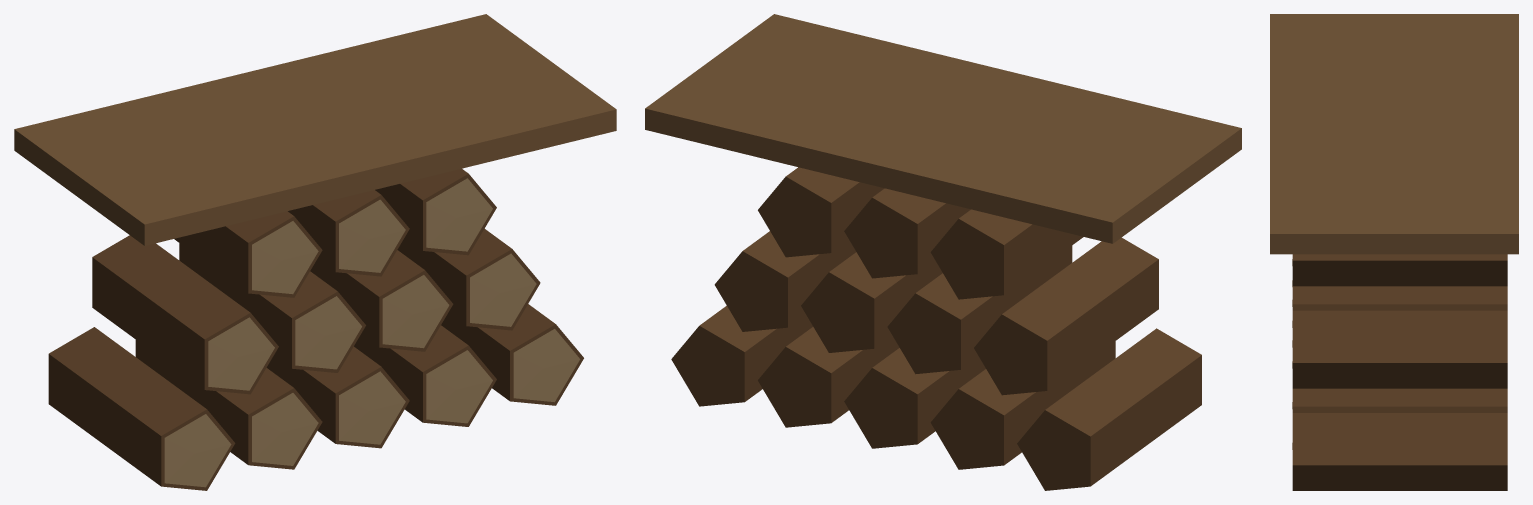
Rendered from Woodpile.fbx.
The picture shows the model from 3 angles, left to right: view 1: azimuth 30°, elevation 25°; view 2: azimuth 150°, elevation 25°; view 3: azimuth 270°, elevation 25°; orthographic projection. The views are drawn at different scales.
Parts seen in each view (by area): view 1: Kit_Woodpile; view 2: Kit_Woodpile; view 3: Kit_Woodpile.
Boxes of the visible parts, x1=… form: Kit_Woodpile: x1=14, y1=14, x2=616, y2=490; Kit_Woodpile: x1=645, y1=14, x2=1241, y2=490; Kit_Woodpile: x1=1270, y1=14, x2=1518, y2=490.
Bounding box in the file's own units: 0.92 × 0.5461 × 0.44.
